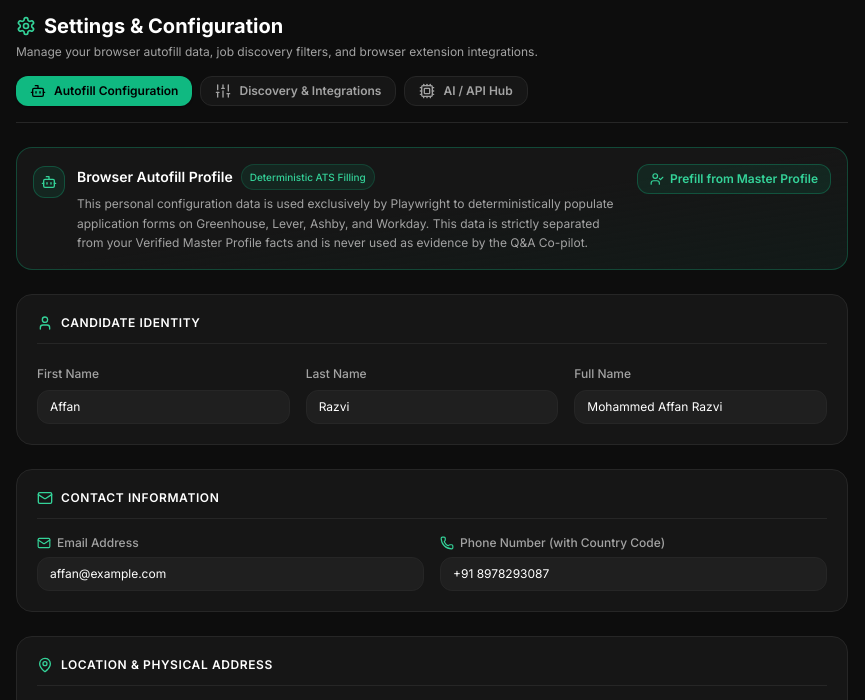
Test: SettingsPage Autofill Configuration & Integrations › prefills from Master Profile on explicit button click without auto-saving
Check: the field showing "affan@example.com" below "Email Address" is shown, box [37, 556, 424, 590]
Click the button "Prefill from Master Profile".
click(734, 179)  # box [637, 164, 831, 194]
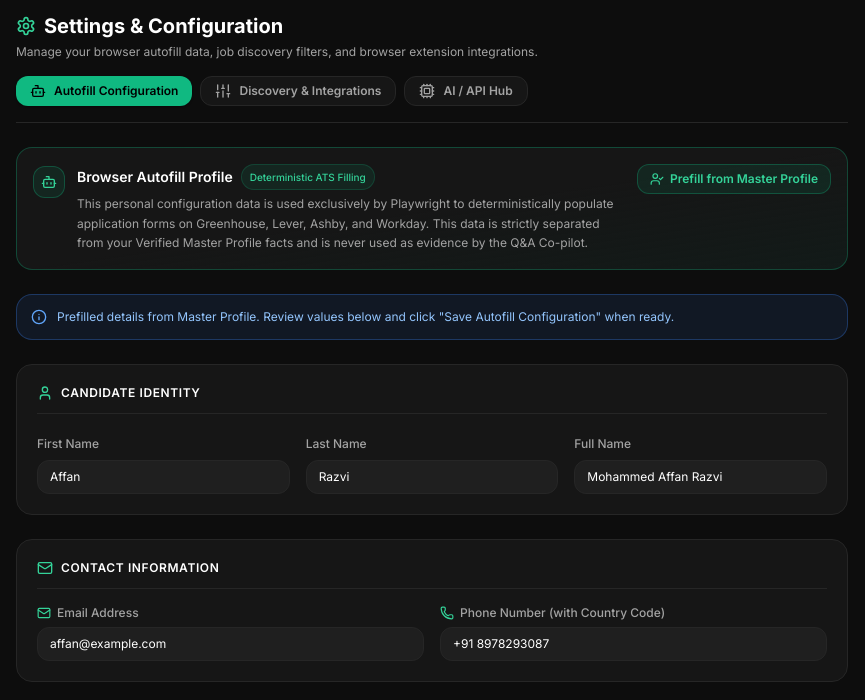
Check: the text "Prefilled details from Master Profile" is shown, box [57, 308, 674, 324]
